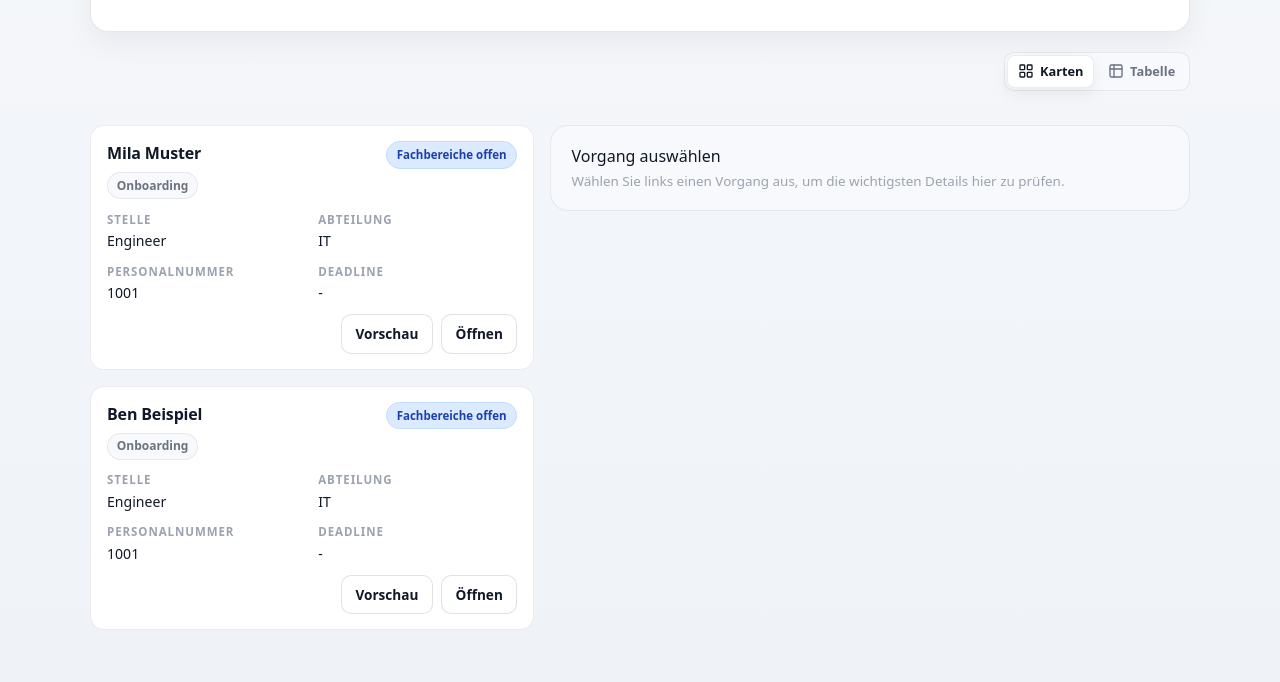
Test: WorkflowListPage › keeps the workflow list visible while showing a selected preview
(page scrolled)
Expected: the heading "Mila Muster" is shown, [107,141,201,166]
Expected: the element named "Vorgangs-Vorschau" is shown, [550,125,1190,211]
Click the button "Vorschau" below "Ben Beispiel".
click(387, 595)  # box [341,575,433,614]
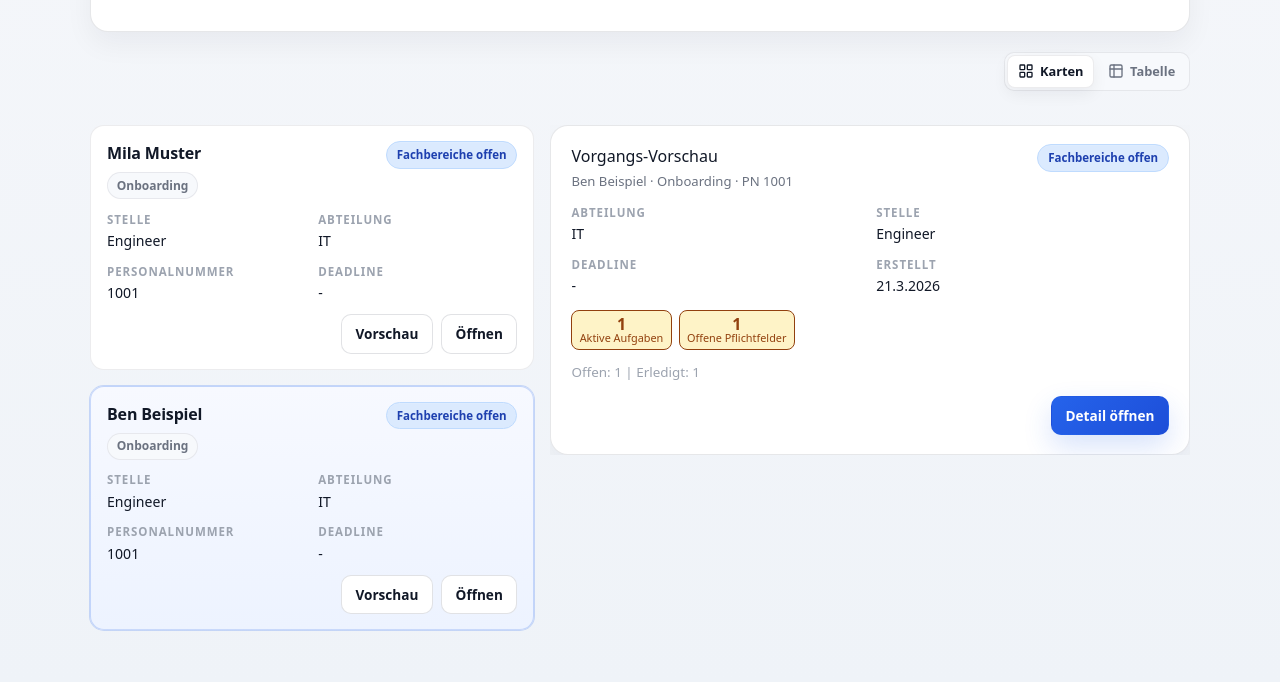
Expected: the element named "Vorgangsliste" is shown, [90,125,534,630]
Now the element named "Vorschau für Ben Beispiel" is shown, box [550,125,1190,455]
